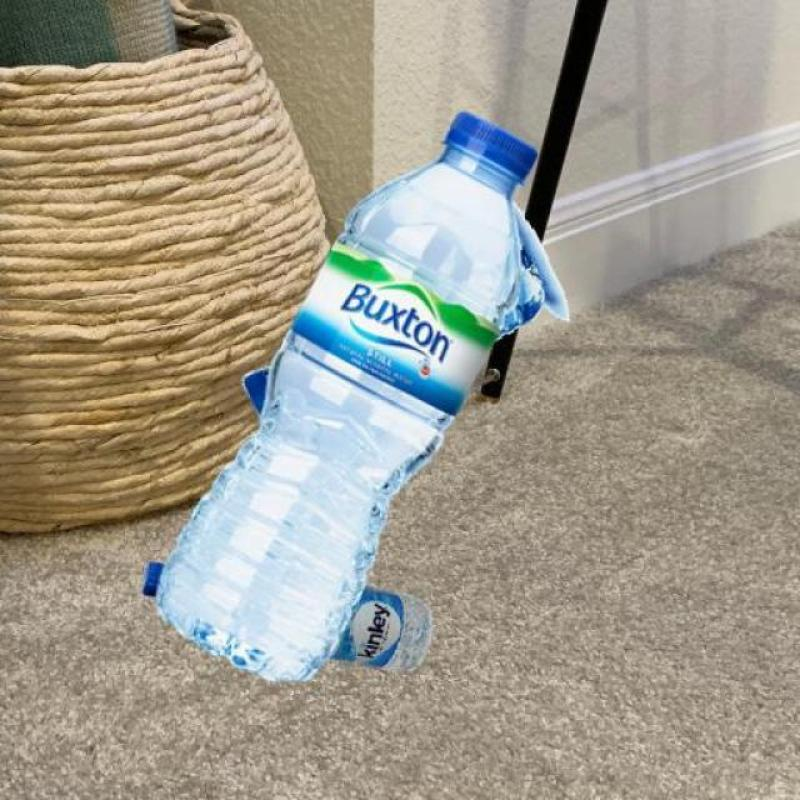botella: (157, 112, 538, 670), (235, 228, 546, 407), (143, 559, 435, 676)
